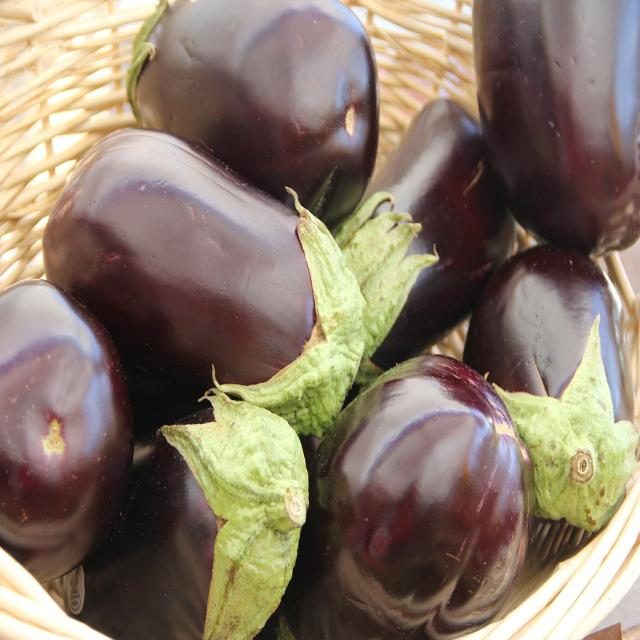eggplant: (42, 132, 358, 447), (323, 350, 538, 640), (80, 385, 311, 640), (125, 1, 381, 228), (469, 239, 640, 555), (330, 95, 522, 369), (474, 1, 640, 257), (1, 280, 130, 586)
